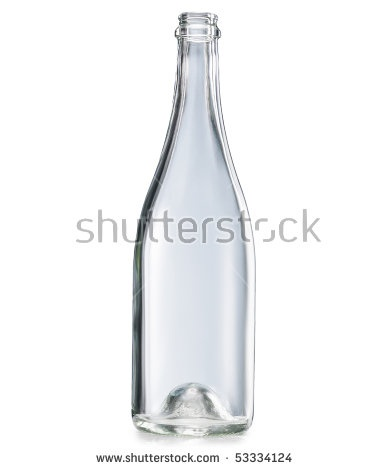emptybottle: (134, 12, 255, 434)
